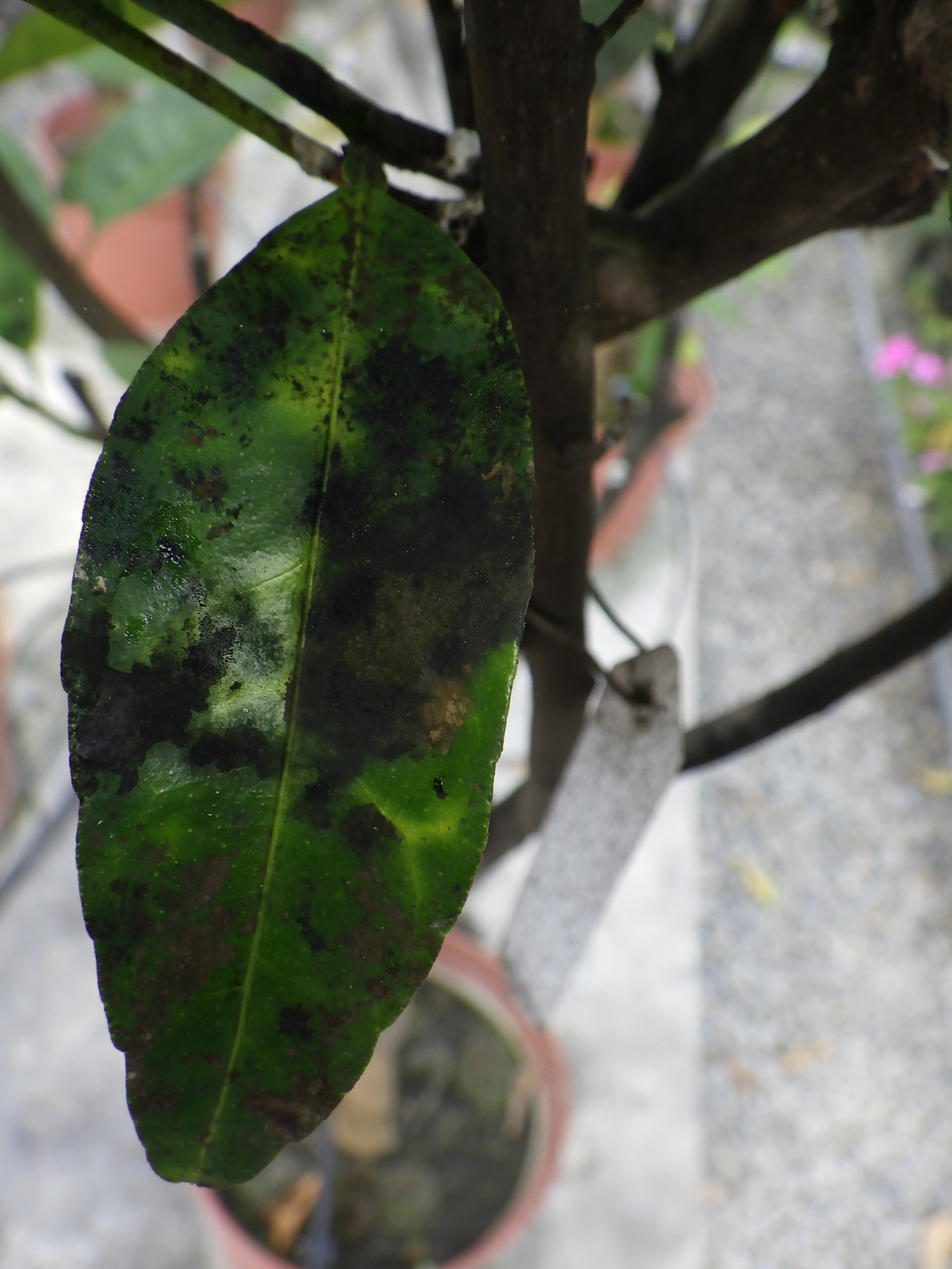Sooty_Mold: (62, 175, 533, 1186)
